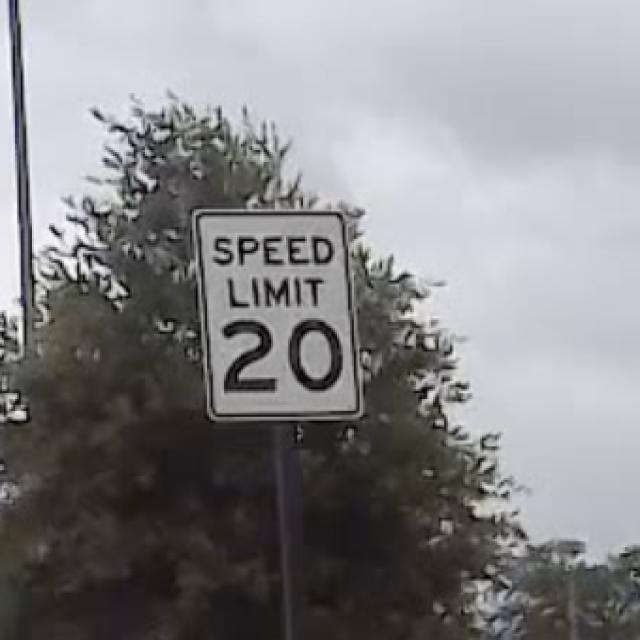speedLimit20: (181, 201, 375, 434)
